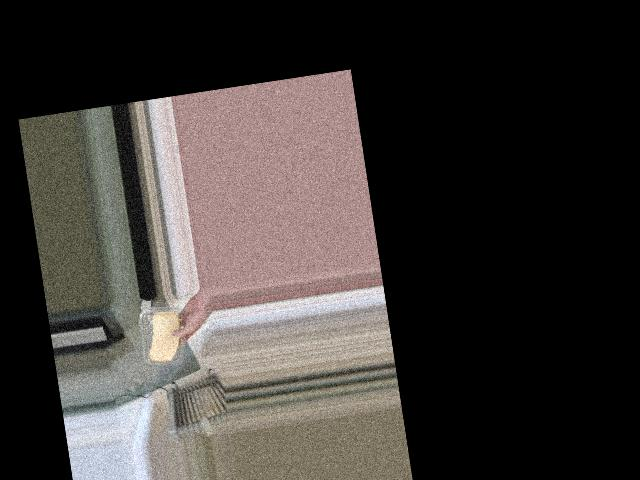cheese: (137, 304, 190, 371)
